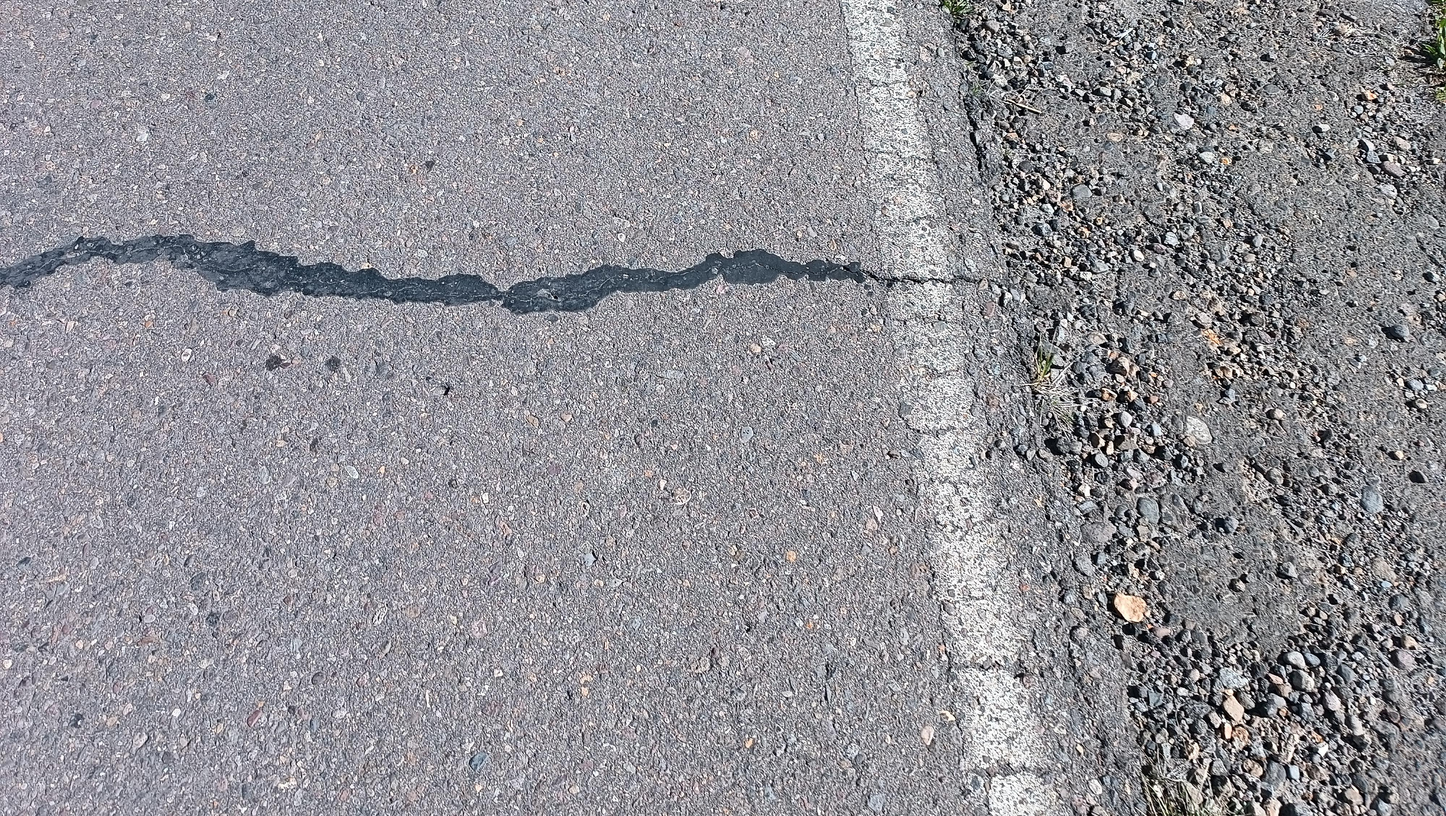GRIETA: (869, 272, 981, 286)
PARCHE: (0, 234, 866, 314)
